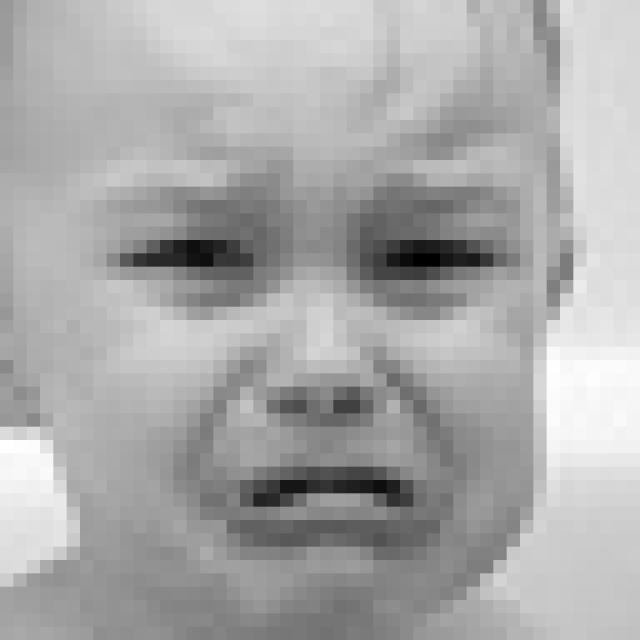sad: (92, 142, 522, 559)
